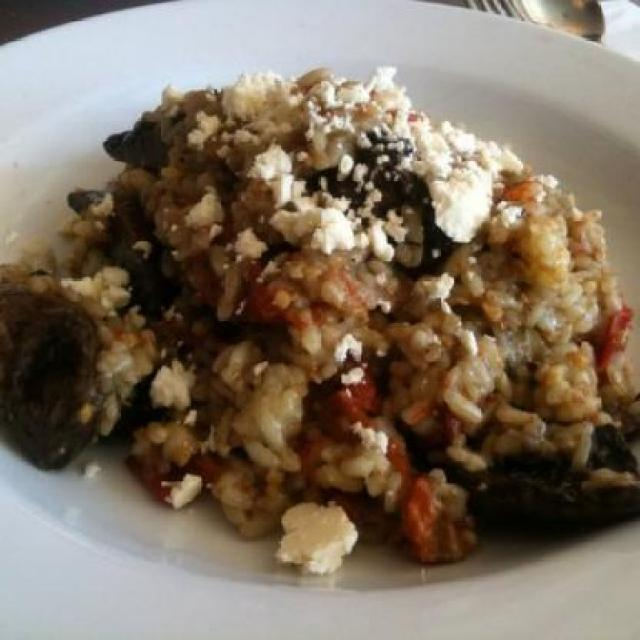Risotto: (28, 75, 636, 528)
